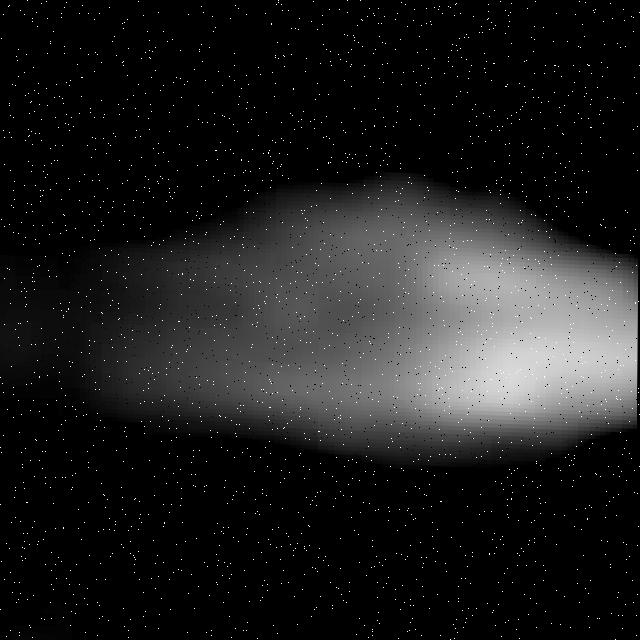person: (106, 150, 640, 514)
